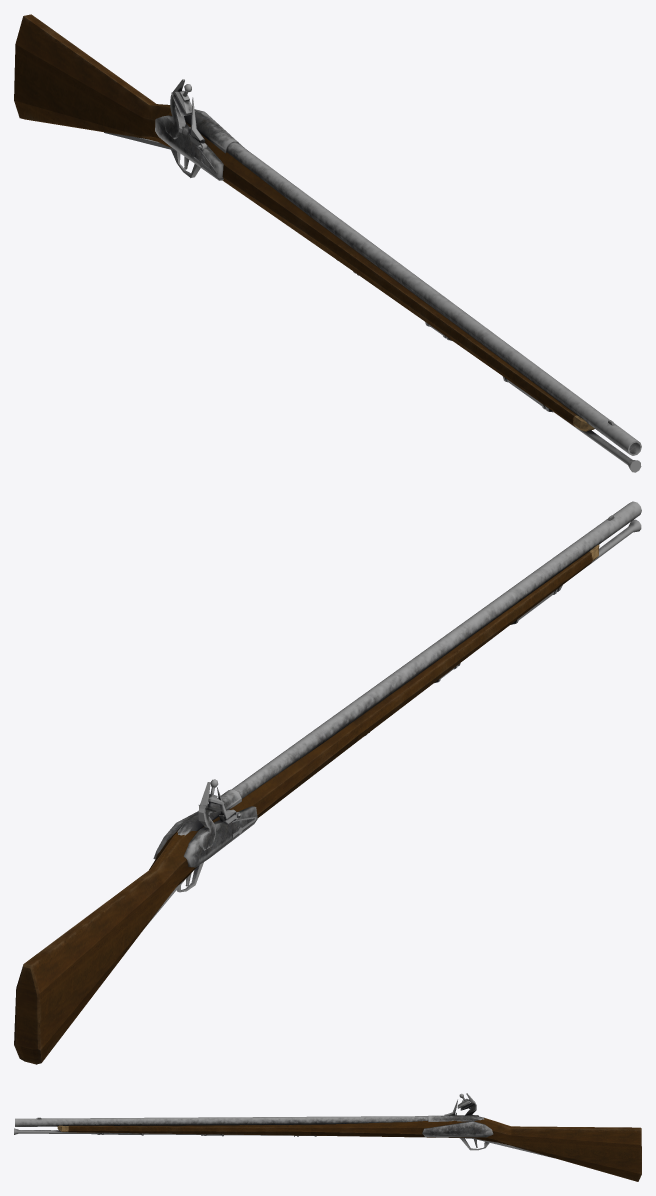
File: musket.obj
The picture shows the model from 3 angles, top to bottom: view 1: azimuth 30°, elevation 25°; view 2: azimuth 150°, elevation 25°; view 3: azimuth 270°, elevation 25°; orthographic projection. The views are drawn at different scales.
Visible parts, largest first — view 1: musket; view 2: musket; view 3: musket.
Part boxes in pixels (x1,y1,x2,y2): musket: (14,14,641,472); musket: (14,501,641,1064); musket: (14,1093,641,1181).
Bounding box in the file's own units: 0.0754 × 0.2953 × 2.
Materials: 1 (1 with a texture image).
